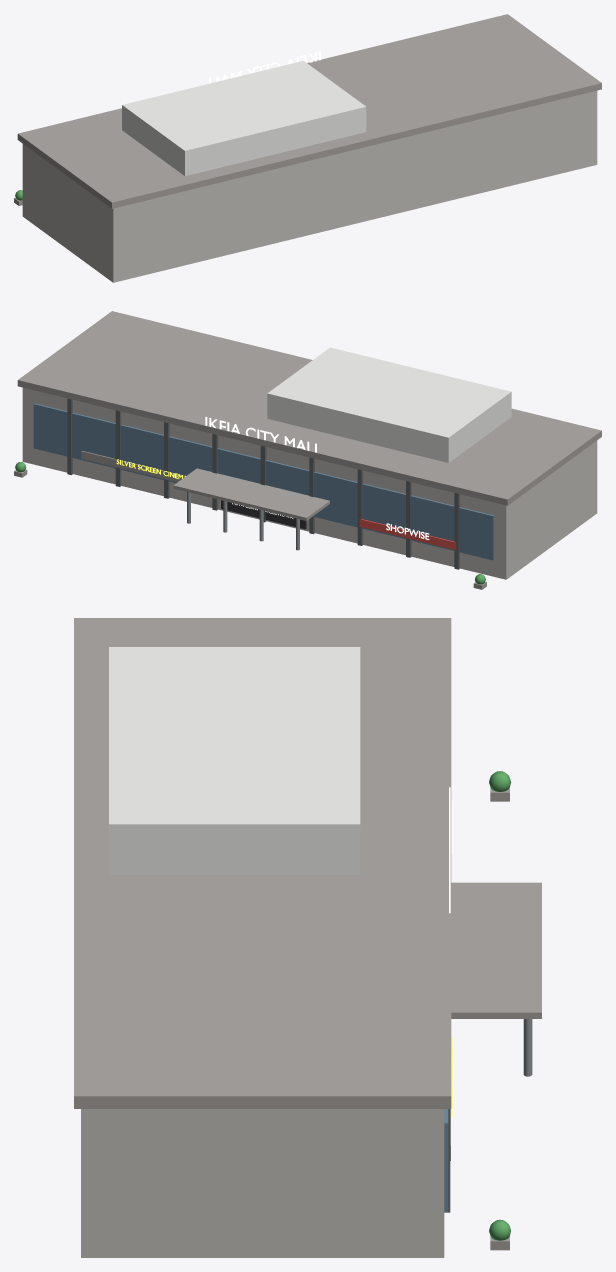
Rendered from ikeja_mall.glb.
3 renders of one model, top to bottom at view 1: azimuth 30°, elevation 25°; view 2: azimuth 150°, elevation 25°; view 3: azimuth 270°, elevation 25°, orthographic. The views are drawn at different scales.
Parts seen in each view (by area): view 1: BLD_ikeja_mall; view 2: BLD_ikeja_mall; view 3: BLD_ikeja_mall.
Boxes of the visible parts, box(x1,y1,x2,y2) form: BLD_ikeja_mall: box(14, 14, 601, 282); BLD_ikeja_mall: box(14, 311, 601, 589); BLD_ikeja_mall: box(74, 618, 541, 1257).
Size of the model in its own units: 81 by 17 by 33.5.
